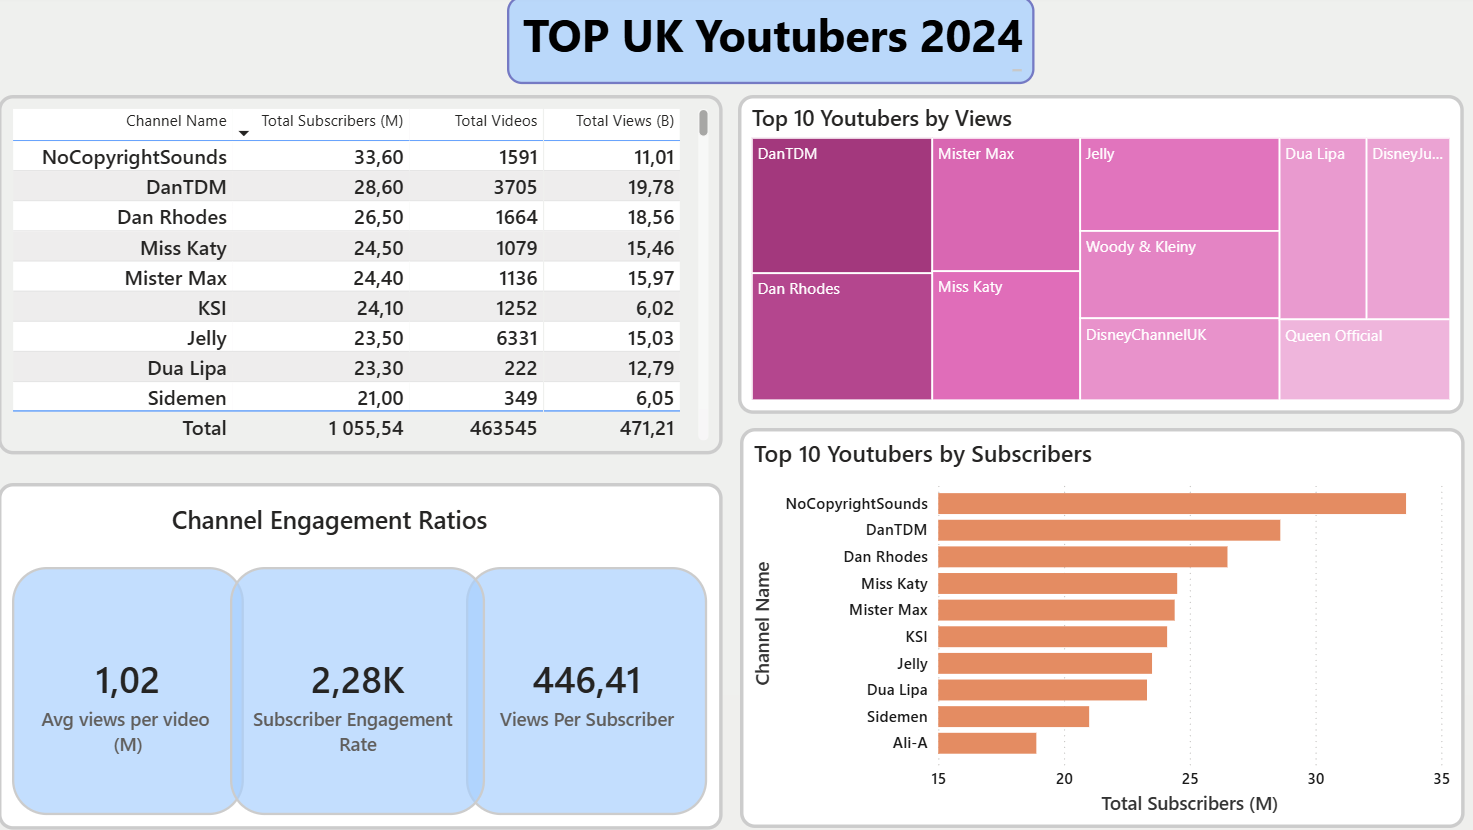

This screenshot's page, from the dashboard's own definition file:
{"tool":"powerbi","page":{"name":"Page 1","canvas":[1280,720],"ordinal":0},"visuals":[{"type":"textbox","box":[0,420.4,625.5,299.1],"z":0},{"type":"textbox","title":"TOP UK Youtubers 2024","box":[439.1,0,454.8,75.8],"z":1000},{"type":"tableEx","fields":{"Values":["view_uk_youtubers_2024.channel_name","view_uk_youtubers_2024.Total Subscribers (M)","view_uk_youtubers_2024.Total Videos","view_uk_youtubers_2024.Total Views (B)"]},"box":[0,85.8,625,310.3],"z":2000},{"type":"treemap","title":"Top 10 Youtubers by Views","fields":{"Group":["view_uk_youtubers_2024.channel_name"],"Values":["view_uk_youtubers_2024.Total Views (B)"]},"box":[638.6,85.3,626.2,275.3],"z":3000},{"type":"card","fields":{"Values":["view_uk_youtubers_2024.Avg views per video (M)"]},"box":[12,492.2,199.9,213.6],"z":4000},{"type":"card","fields":{"Values":["view_uk_youtubers_2024.Views Per Subscriber"]},"box":[403.3,492.2,208.5,213.6],"z":5000},{"type":"clusteredBarChart","title":"Top 10 Youtubers by Subscribers","fields":{"Y":["view_uk_youtubers_2024.Total Subscribers (M)"],"Category":["view_uk_youtubers_2024.channel_name"]},"box":[640,373,624.9,345.5],"z":6000},{"type":"card","fields":{"Values":["view_uk_youtubers_2024.Subscriber Engament Rate"]},"box":[199.9,492.2,220.5,213.6],"z":7000},{"type":"textbox","box":[144.5,432.2,330.3,39.9],"z":8000}]}

Visuals, with their boxes in screenshot pixels (x1, y1, x2, y2), scaled from the page's 1280x720 canvas onto the 1473x830 screenshot:
textbox: <bbox>0, 485, 720, 829</bbox>
"TOP UK Youtubers 2024" textbox: <bbox>505, 0, 1029, 87</bbox>
tableEx - view_uk_youtubers_2024.channel_name x view_uk_youtubers_2024.Total Subscribers (M): <bbox>0, 99, 719, 457</bbox>
"Top 10 Youtubers by Views" treemap: <bbox>735, 98, 1456, 416</bbox>
card - view_uk_youtubers_2024.Avg views per video (M): <bbox>14, 567, 244, 814</bbox>
card - view_uk_youtubers_2024.Views Per Subscriber: <bbox>464, 567, 704, 814</bbox>
"Top 10 Youtubers by Subscribers" clusteredBarChart: <bbox>736, 430, 1456, 828</bbox>
card - view_uk_youtubers_2024.Subscriber Engament Rate: <bbox>230, 567, 484, 814</bbox>
textbox: <bbox>166, 498, 546, 544</bbox>
